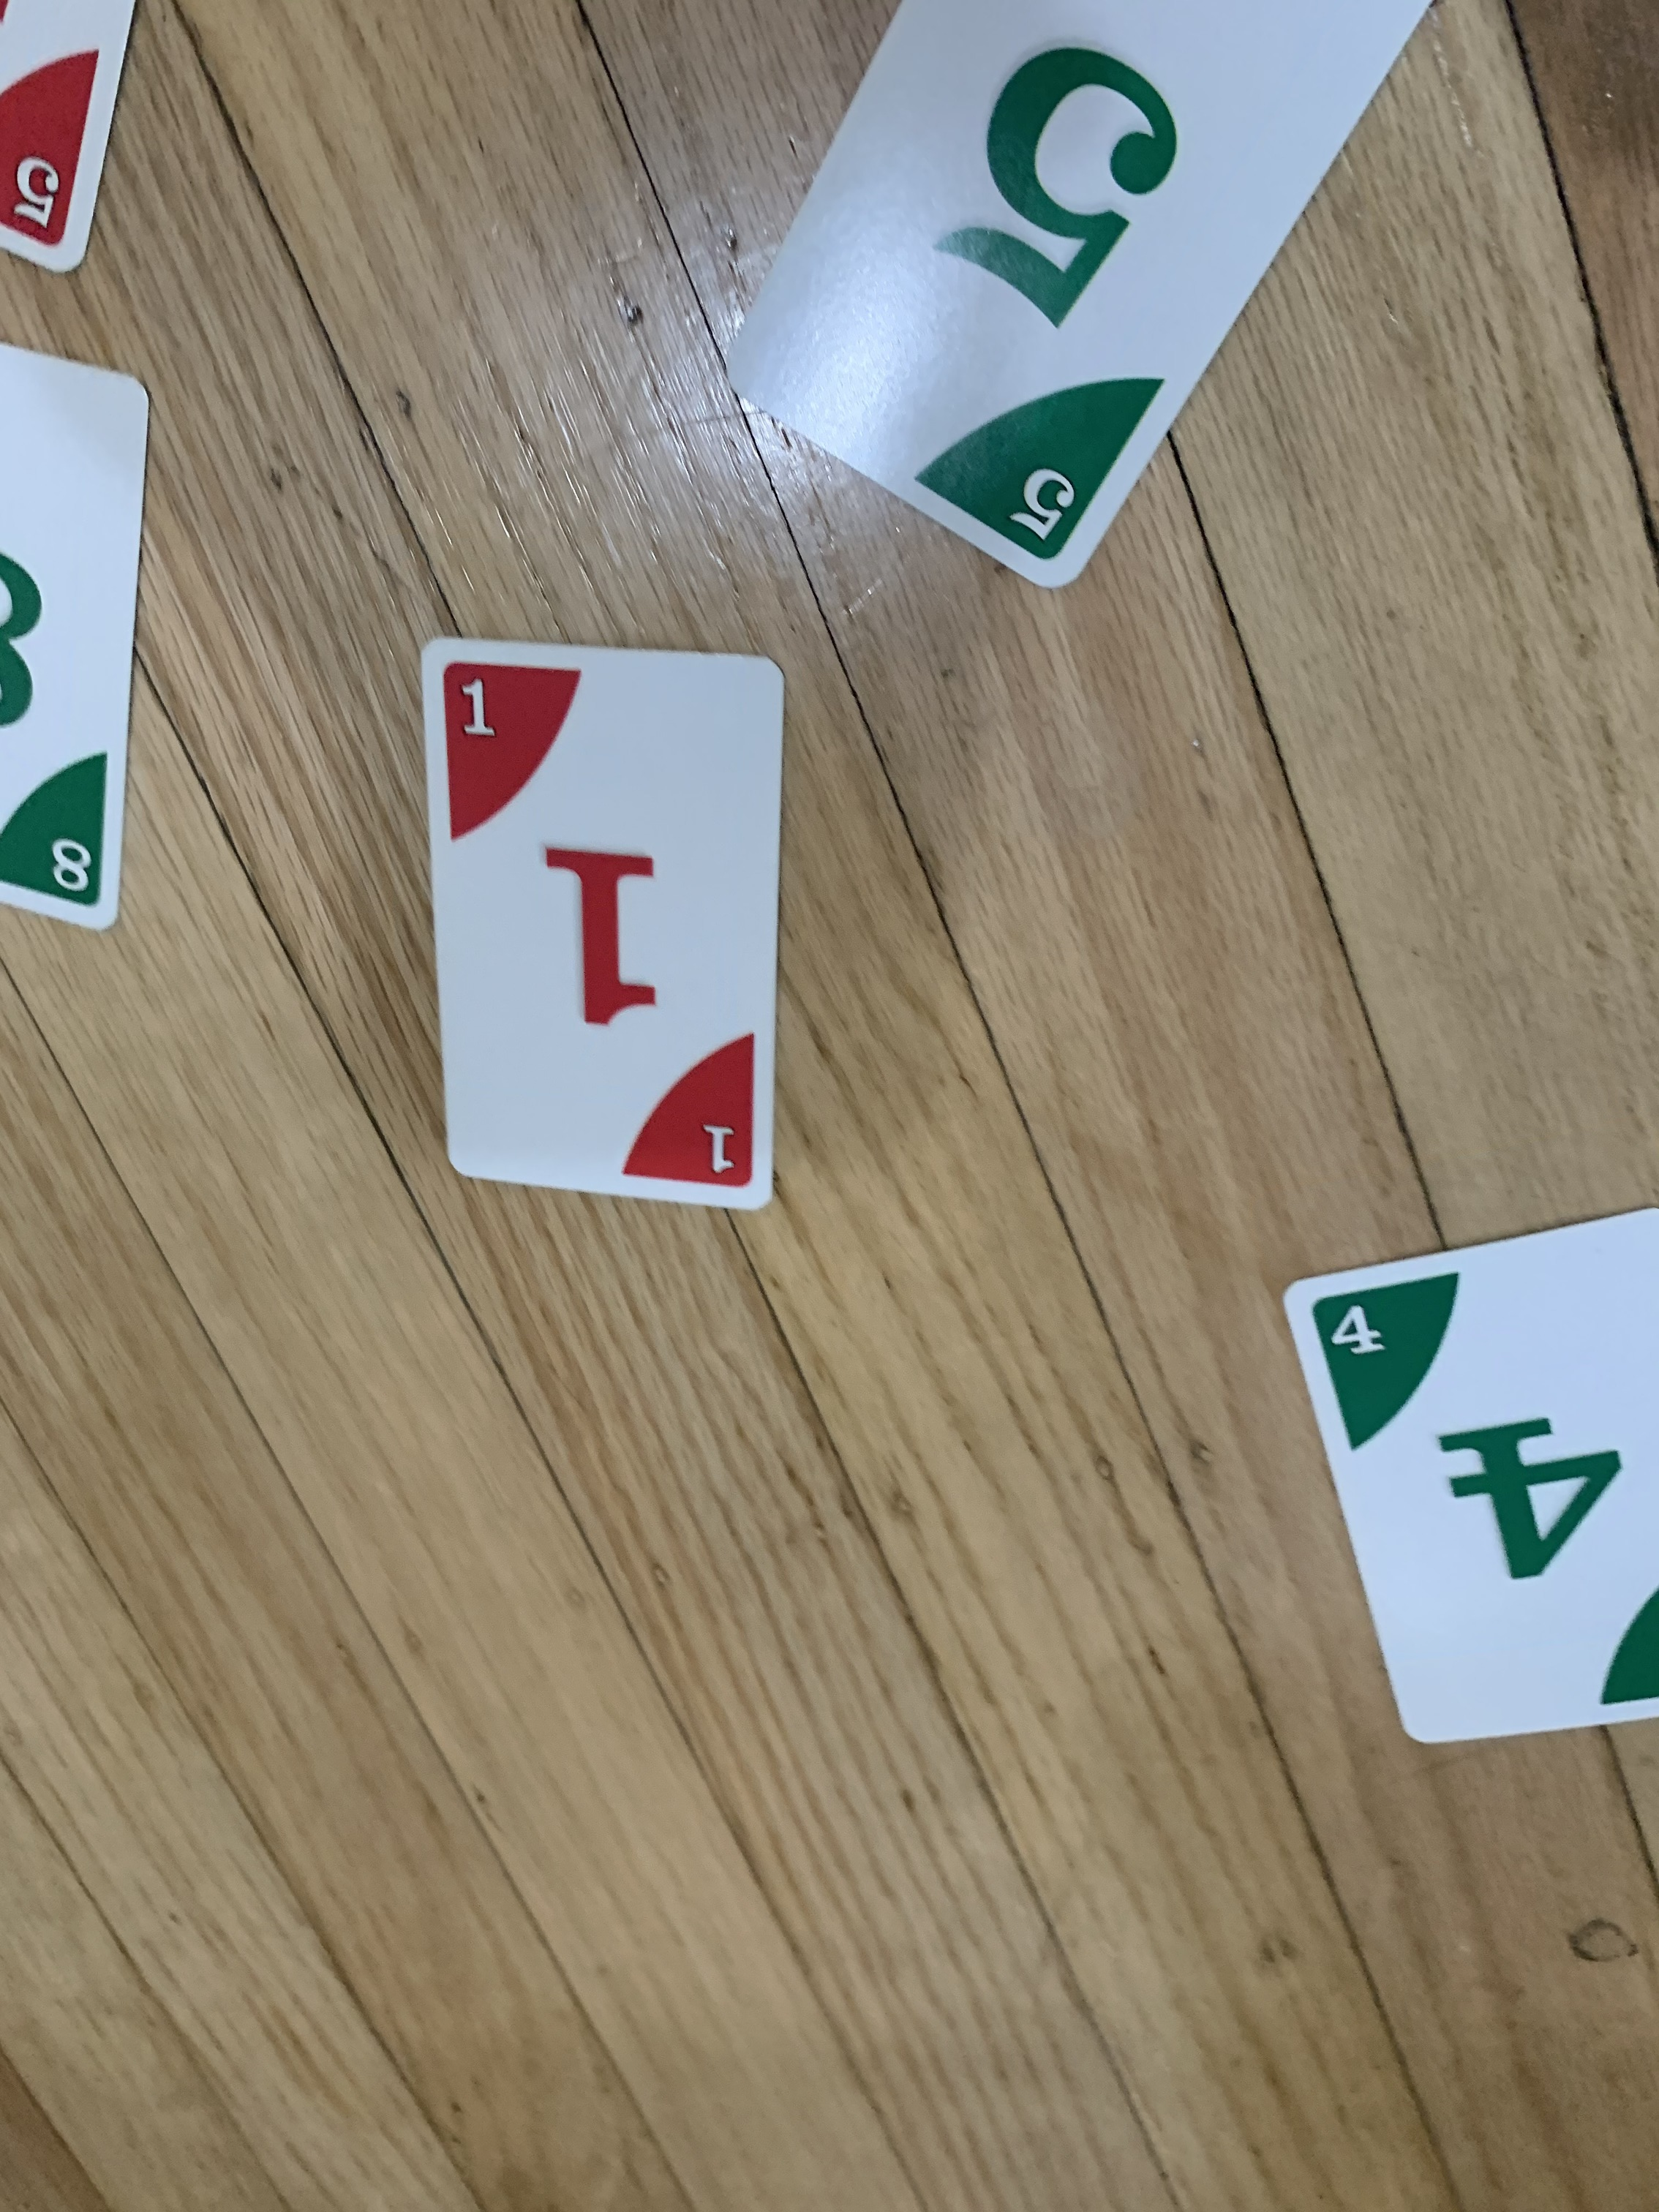four: (1277, 1193, 1659, 1764)
one: (406, 617, 793, 1219)
